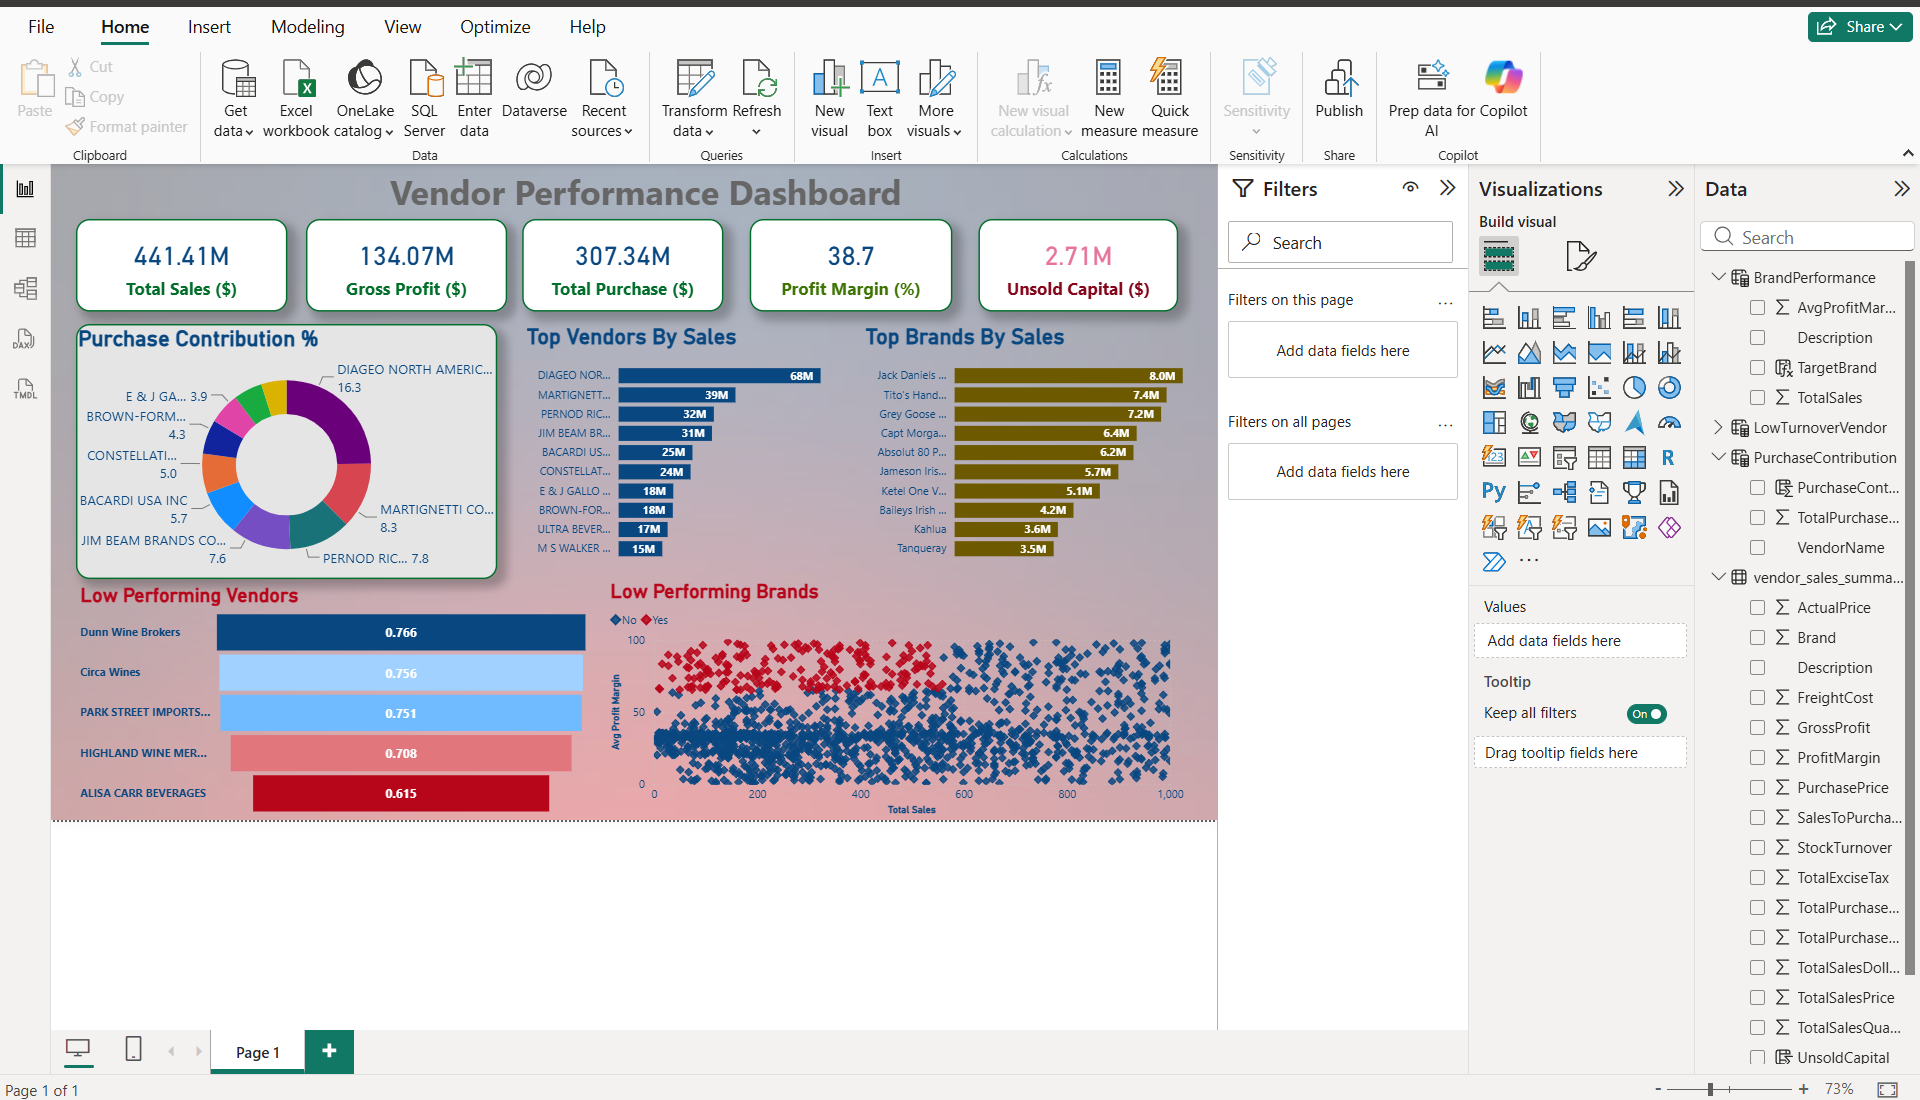

What the dashboard file says about the page in this screenshot:
{"tool":"powerbi","page":{"name":"Page 1","canvas":[1280,720],"ordinal":0},"visuals":[{"type":"textbox","box":[27.4,0,1252.8,60.4],"z":0},{"type":"card","fields":{"Values":["Sum(vendor_sales_summary.TotalSalesDollars)"]},"box":[27.4,60.4,231.9,101.5],"z":1},{"type":"card","fields":{"Values":["Sum(vendor_sales_summary.TotalPurchaseDollars)"]},"box":[517.3,60.4,220.9,101.5],"z":2},{"type":"card","fields":{"Values":["Sum(vendor_sales_summary.GrossProfit)"]},"box":[279.9,60.4,220.9,101.5],"z":3},{"type":"card","fields":{"Values":["Avg(vendor_sales_summary.ProfitMargin)"]},"box":[767.1,60.4,222.3,101.5],"z":4},{"type":"card","fields":{"Values":["Sum(vendor_sales_summary.UnsoldCapital)"]},"box":[1018.2,60.4,219.6,101.5],"z":5},{"type":"donutChart","title":"Purchase Contribution % ","fields":{"Category":["PurchaseContribution.VendorName"],"Y":["Sum(PurchaseContribution.PurchaseContribution%)"]},"box":[27.4,175.6,462.4,279.9],"z":6},{"type":"barChart","title":"Top Vendors By Sales","fields":{"Category":["vendor_sales_summary.VendorName"],"Y":["Sum(vendor_sales_summary.TotalSalesDollars)"]},"box":[517.3,175.6,371.9,269],"z":7},{"type":"barChart","title":"Top Brands By Sales","fields":{"Category":["vendor_sales_summary.Description"],"Y":["Sum(vendor_sales_summary.TotalSalesDollars)"]},"box":[889.2,175.6,359.5,269],"z":8},{"type":"funnel","title":"Low Performing Vendors","fields":{"Category":["LowTurnoverVendor.VendorName"],"Y":["Avg(LowTurnoverVendor.AvgStockTurnOver)"]},"box":[27.4,461.1,569.5,259.3],"z":9},{"type":"scatterChart","title":"Low Performing Brands","fields":{"Category":["BrandPerformance.Description"],"Series":["BrandPerformance.TargetBrand"],"X":["Sum(BrandPerformance.TotalSales)"],"Y":["Sum(BrandPerformance.AvgProfitMargin)"]},"box":[609.3,456.9,639.5,263.5],"z":10}]}

Visuals, with their boxes on the page's 1280x720 design canvas (x1, y1, x2, y2). These are canvas units, not pixel positions in the 1920x1100 screenshot, which may show the page scaled, cropped or inside an application window:
textbox: bbox=[27, 0, 1280, 60]
card - Sum(vendor_sales_summary.TotalSalesDollars): bbox=[27, 60, 259, 162]
card - Sum(vendor_sales_summary.TotalPurchaseDollars): bbox=[517, 60, 738, 162]
card - Sum(vendor_sales_summary.GrossProfit): bbox=[280, 60, 501, 162]
card - Avg(vendor_sales_summary.ProfitMargin): bbox=[767, 60, 989, 162]
card - Sum(vendor_sales_summary.UnsoldCapital): bbox=[1018, 60, 1238, 162]
"Purchase Contribution % " donutChart: bbox=[27, 176, 490, 456]
"Top Vendors By Sales" barChart: bbox=[517, 176, 889, 445]
"Top Brands By Sales" barChart: bbox=[889, 176, 1249, 445]
"Low Performing Vendors" funnel: bbox=[27, 461, 597, 720]
"Low Performing Brands" scatterChart: bbox=[609, 457, 1249, 720]
